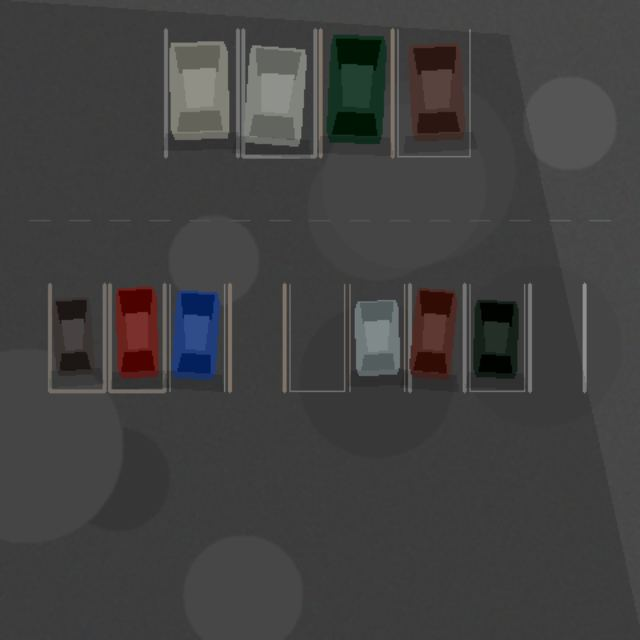space-empty: (229, 284, 284, 391), (289, 284, 344, 391), (529, 284, 584, 391)
space-occupied: (165, 29, 237, 156), (243, 29, 315, 156), (320, 29, 392, 156), (397, 29, 469, 156), (49, 284, 104, 391), (109, 284, 164, 391), (169, 284, 224, 391), (349, 284, 404, 391), (409, 284, 464, 391), (469, 284, 524, 391)
